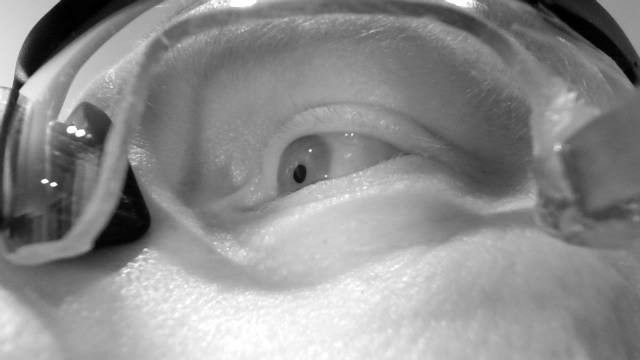pupil: (293, 164, 307, 184)
